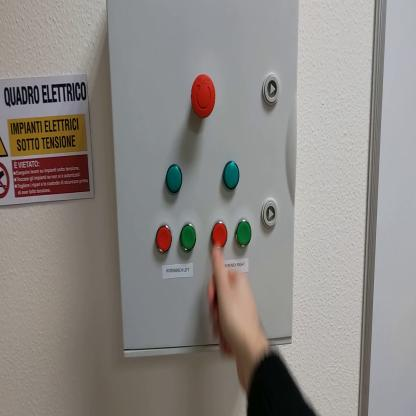hand: (208, 244, 265, 367)
left green button: (182, 225, 199, 254)
left red button: (156, 226, 174, 257)
right green button: (237, 221, 252, 248)
right red button: (211, 221, 228, 247)
